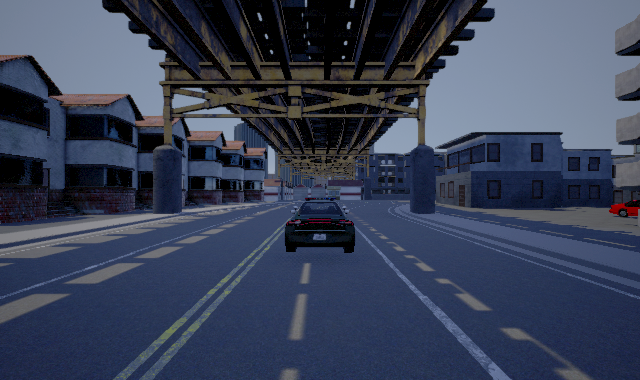vehicle: (285, 197, 355, 253), (609, 200, 640, 218)
